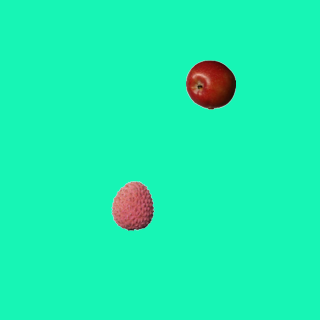Apple Braeburn: (185, 59, 235, 109)
Lychee: (107, 180, 157, 230)
